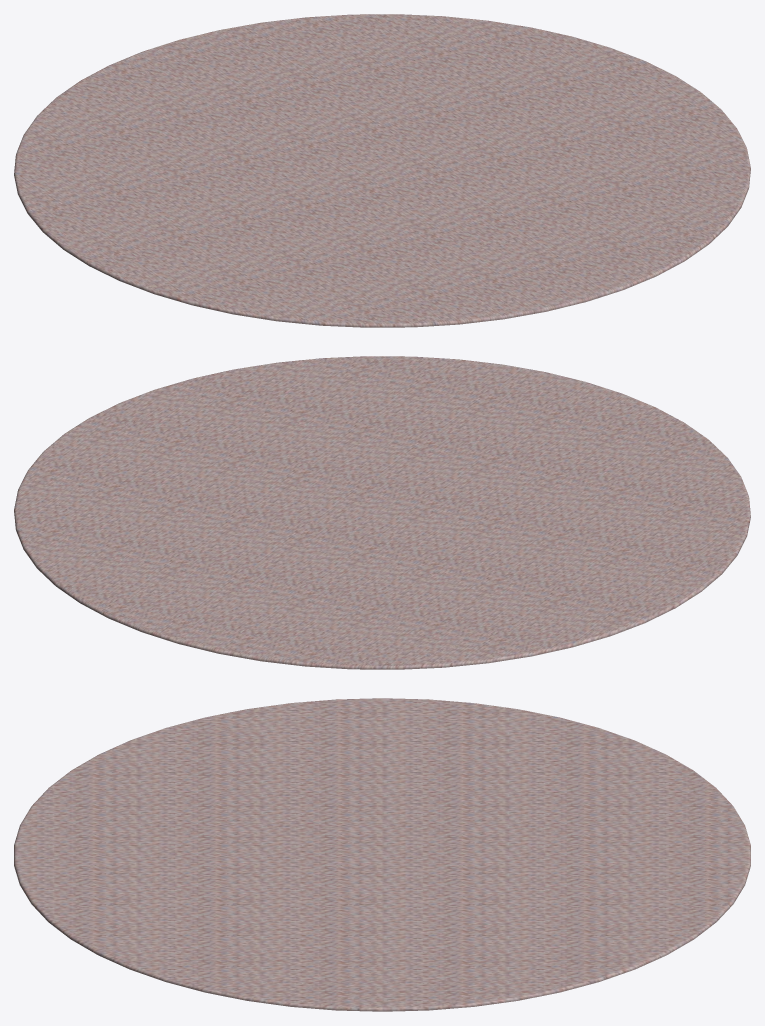
The model's file is Rug14.glb.
3 renders of one model, top to bottom at view 1: azimuth 30°, elevation 25°; view 2: azimuth 150°, elevation 25°; view 3: azimuth 270°, elevation 25°, orthographic.
Parts seen in each view (by area): view 1: BP_Rug14; view 2: BP_Rug14; view 3: BP_Rug14.
Part boxes in pixels (box(x1,y1,x2,y2)): BP_Rug14: box(14, 14, 750, 327); BP_Rug14: box(14, 356, 750, 669); BP_Rug14: box(14, 698, 750, 1011).
Size of the model in its own units: 1.5 by 0.00692 by 1.5.
1 material, 1 textured.
